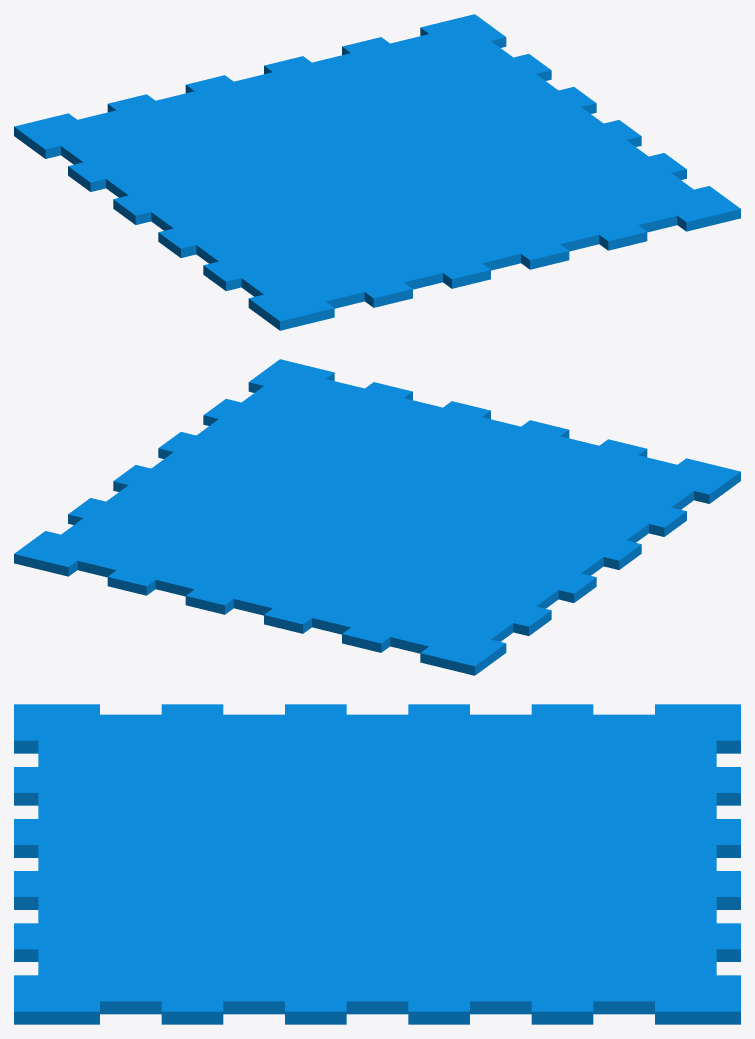
File: training_item_022.glb
3 views of the same model, one above another, from view 1: azimuth 30°, elevation 25°; view 2: azimuth 150°, elevation 25°; view 3: azimuth 270°, elevation 25° (orthographic). The views are drawn at different scales.
Parts seen in each view (by area): view 1: training_item_022; view 2: training_item_022; view 3: training_item_022.
Boxes of the visible parts, box(x1,y1,x2,y2) form: training_item_022: box(14, 14, 740, 330); training_item_022: box(14, 359, 740, 675); training_item_022: box(14, 704, 740, 1024).
Size of the model in its own units: 1.07 by 0.021 by 1.07.
1 material, 1 textured.
